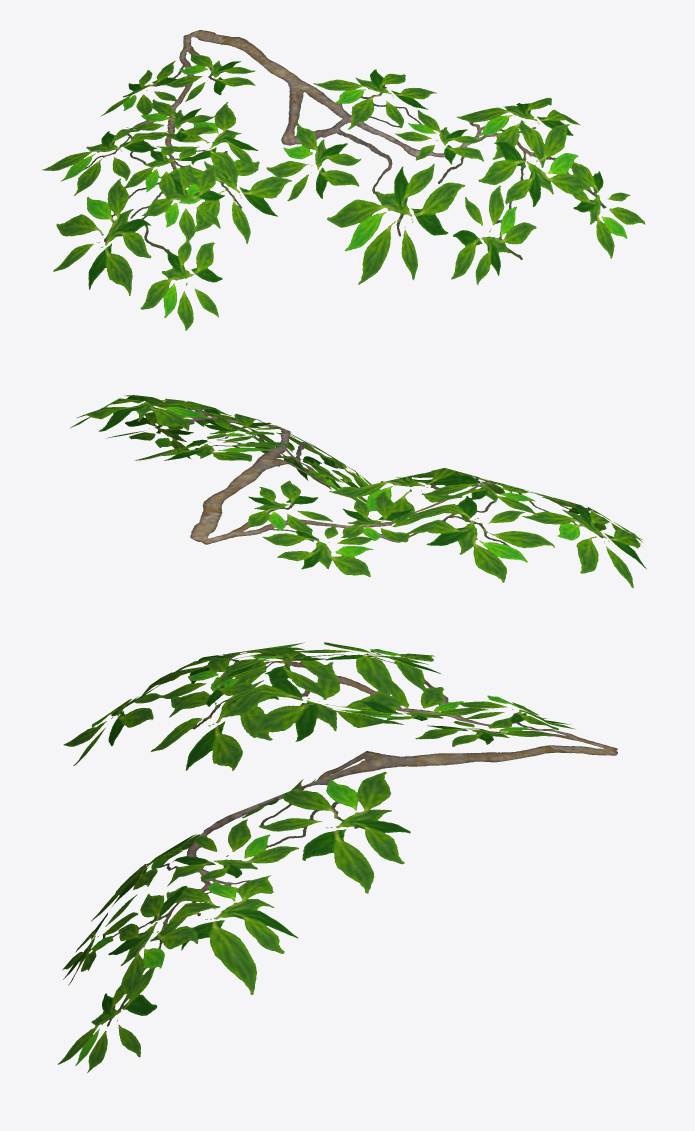
Rendered from SingleBranchBaseMesh2.FBX.
3 views of the same model, one above another, from view 1: azimuth 30°, elevation 25°; view 2: azimuth 150°, elevation 25°; view 3: azimuth 270°, elevation 25° (orthographic). The views are drawn at different scales.
Parts seen in each view (by area): view 1: Object233; view 2: Object233; view 3: Object233.
Part boxes in pixels (bbox=[...]): Object233: bbox=[42, 30, 645, 330]; Object233: bbox=[70, 395, 646, 588]; Object233: bbox=[58, 642, 617, 1072].
Size of the model in its own units: 154 by 40.7 by 112.
